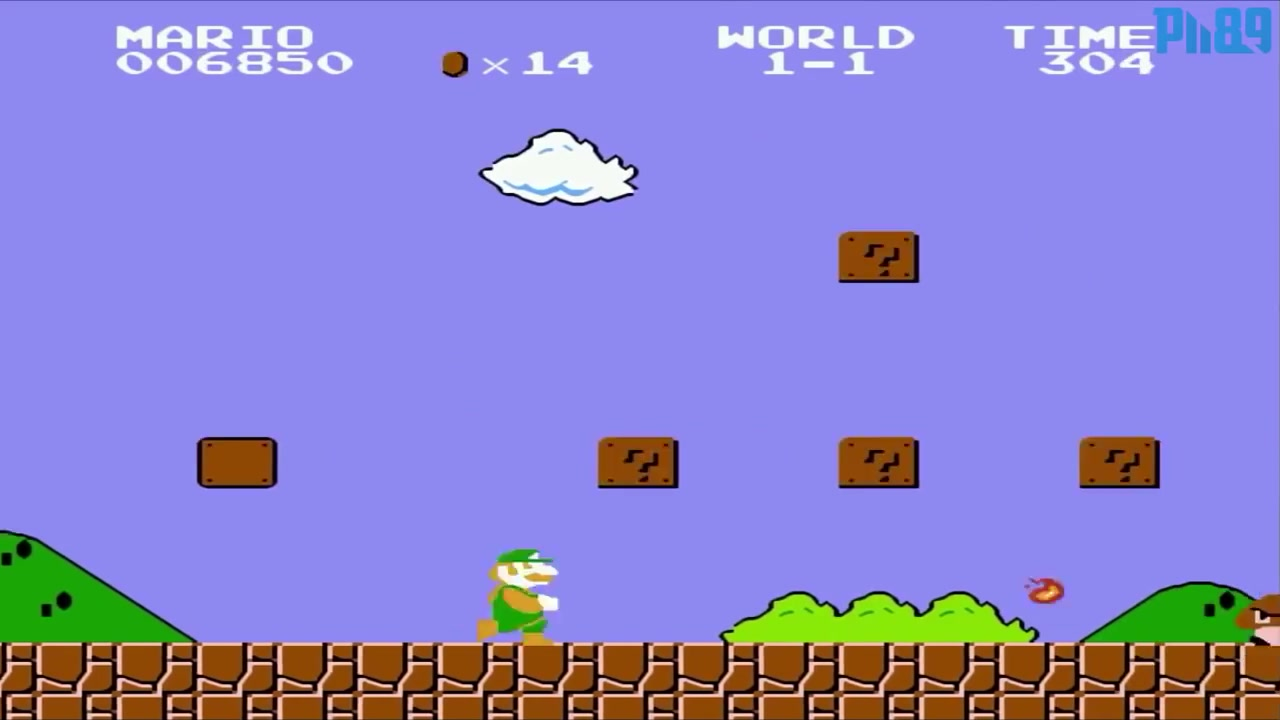mario: (471, 538, 577, 648)
